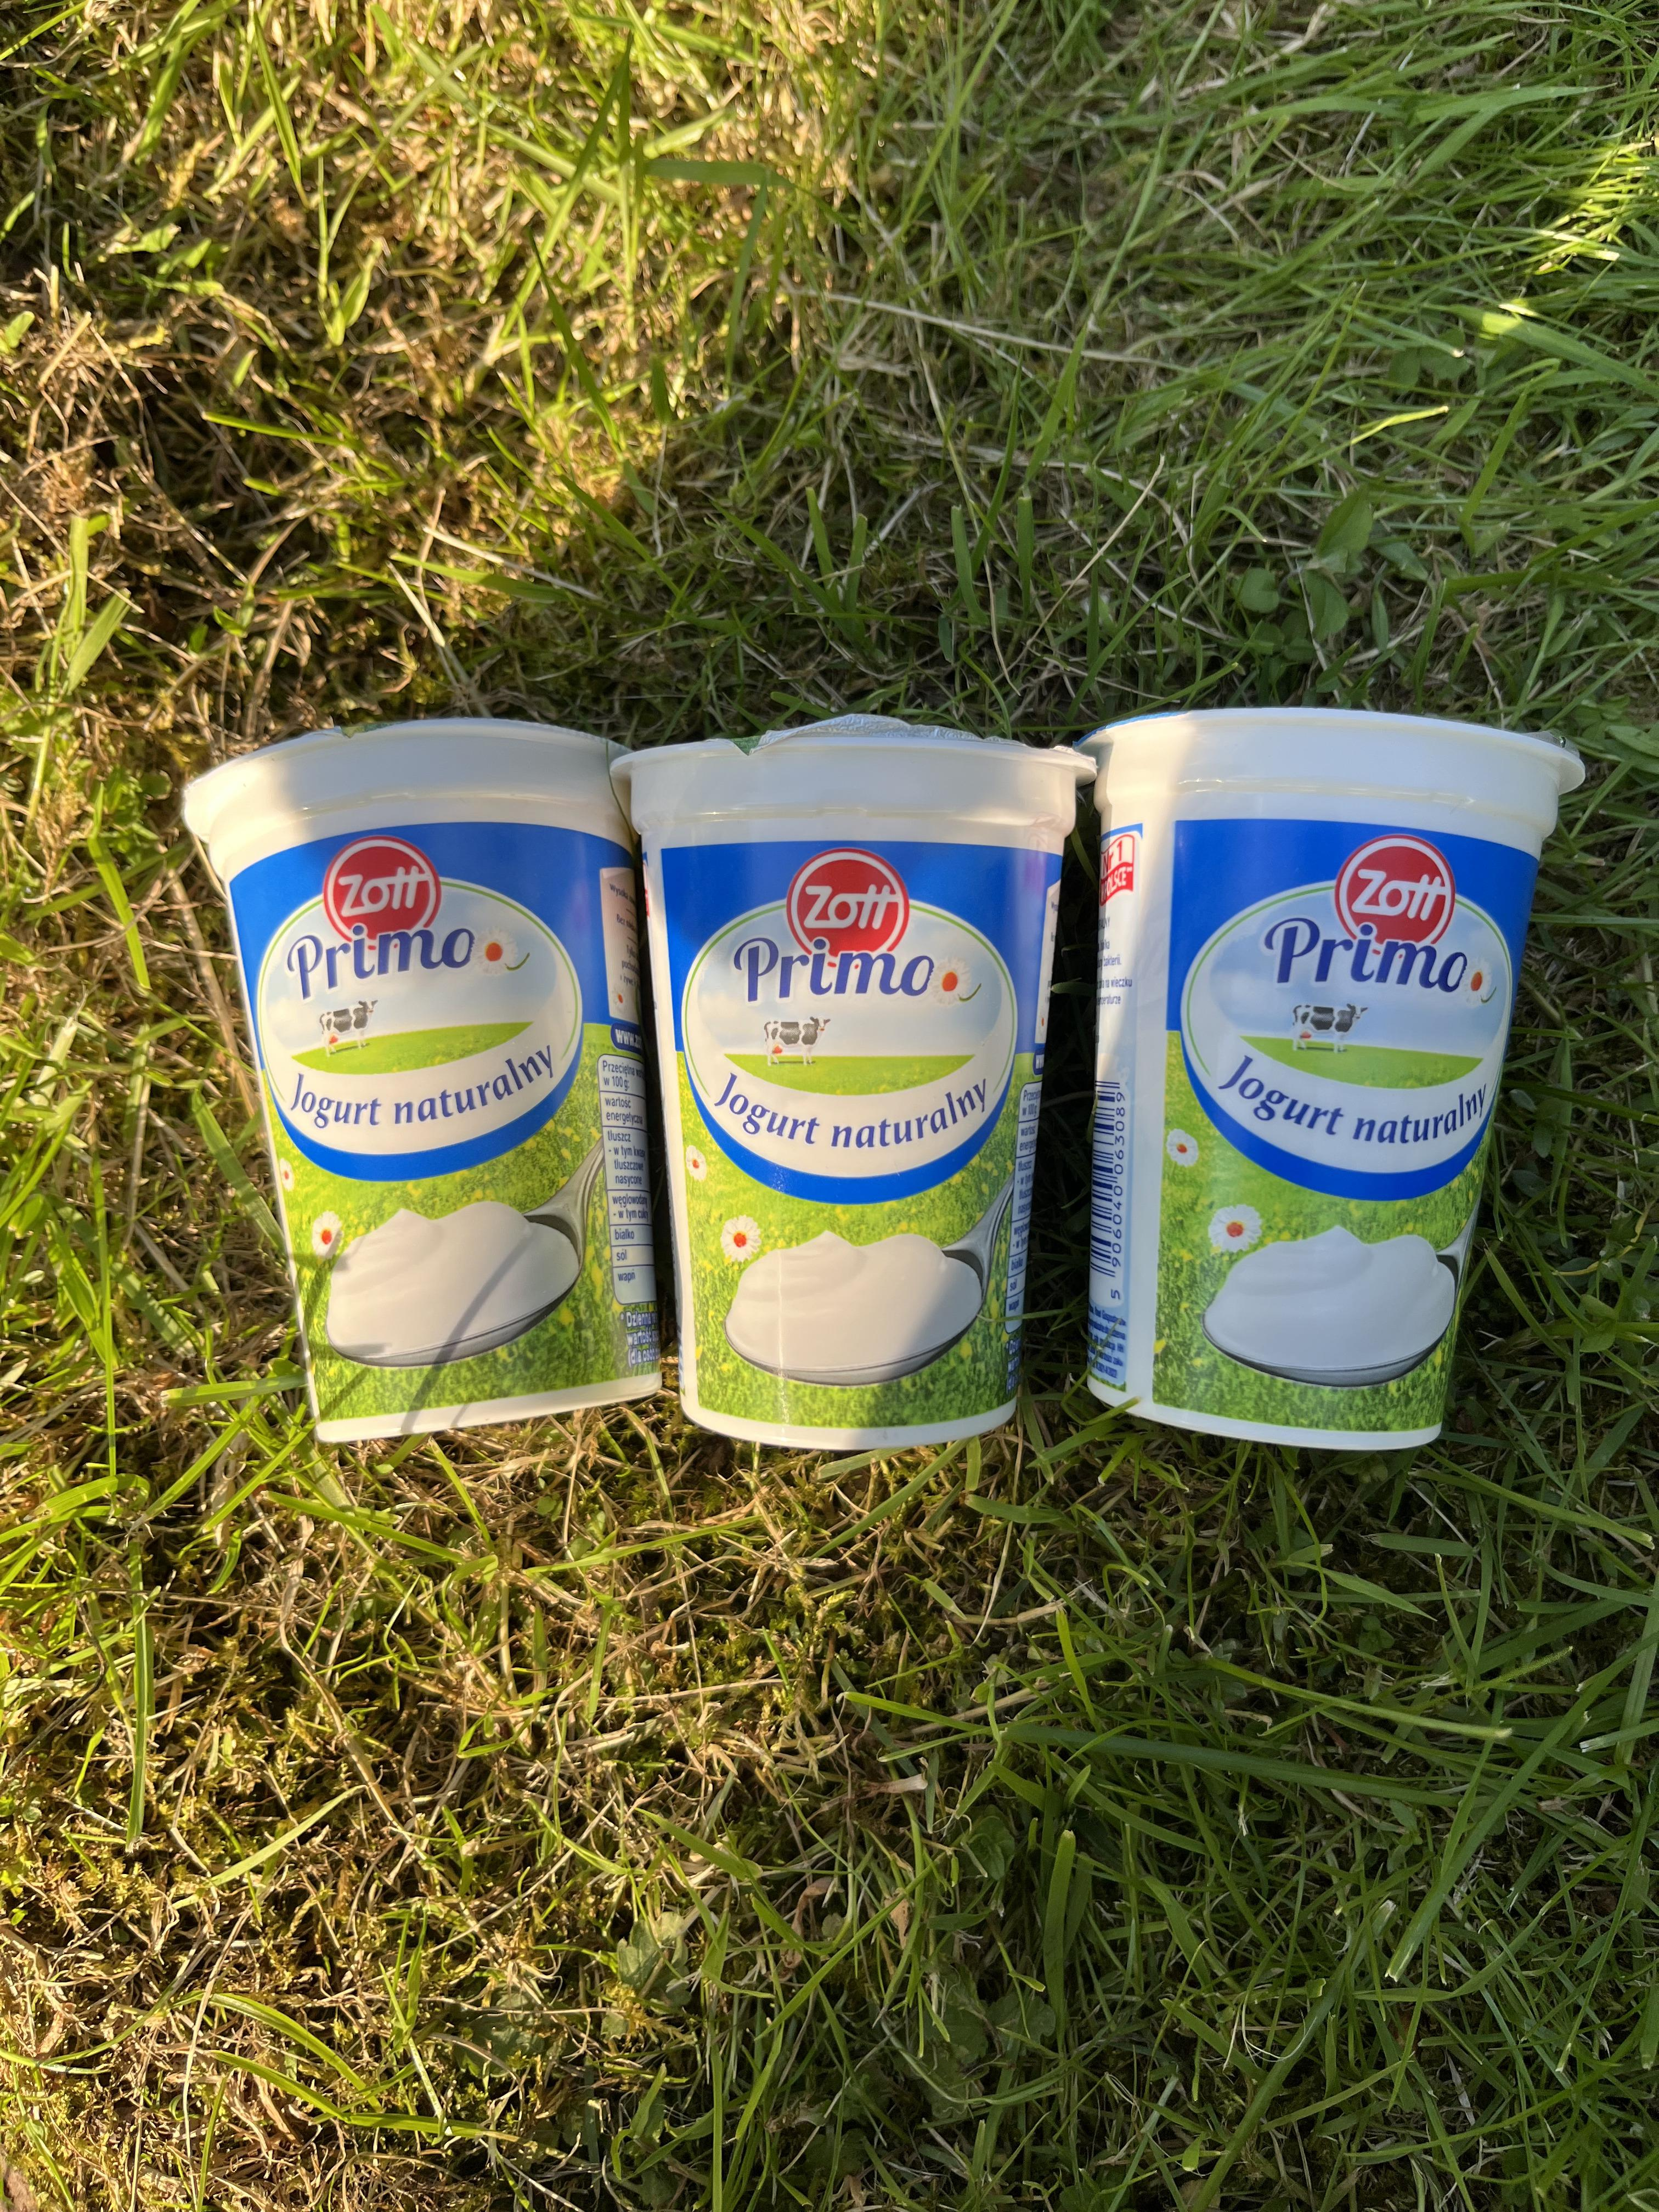Yogurt: (1086, 712, 1520, 1449), (653, 728, 1042, 1437), (261, 742, 653, 1423)
